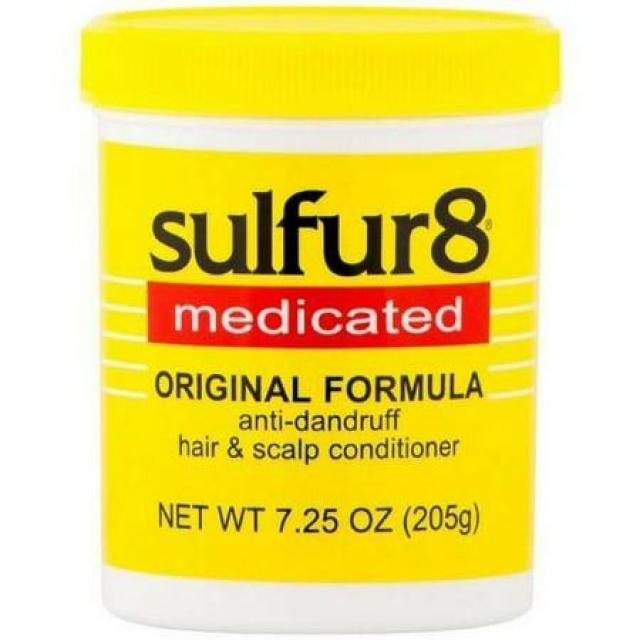medicine: (93, 36, 547, 568)
